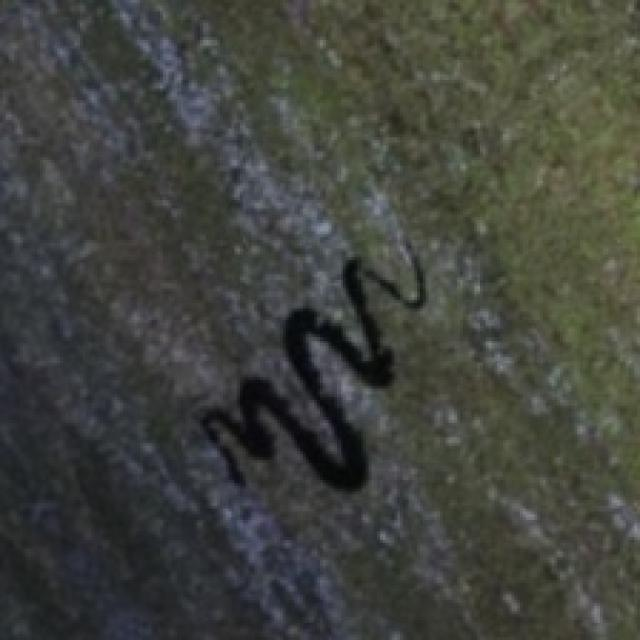king cobra: (200, 254, 423, 489)
